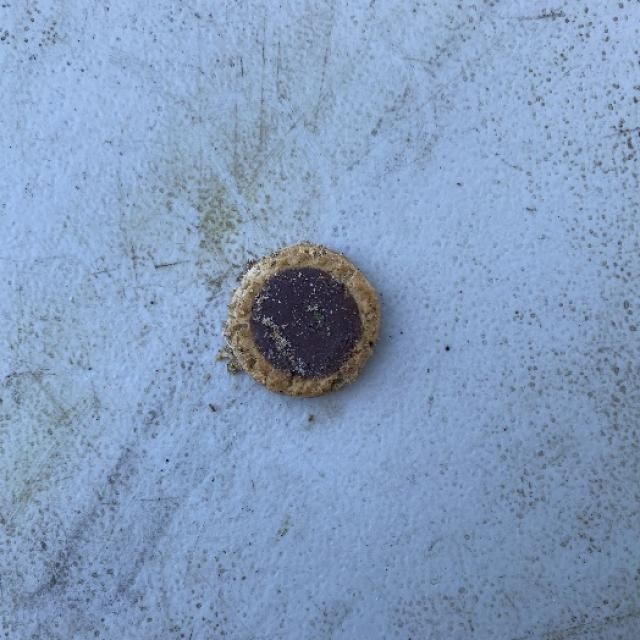organik: (222, 245, 382, 400)
